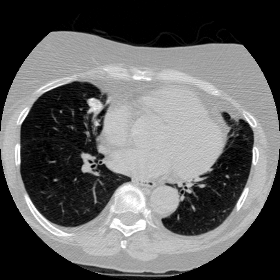nodule: (88, 97, 102, 111)
